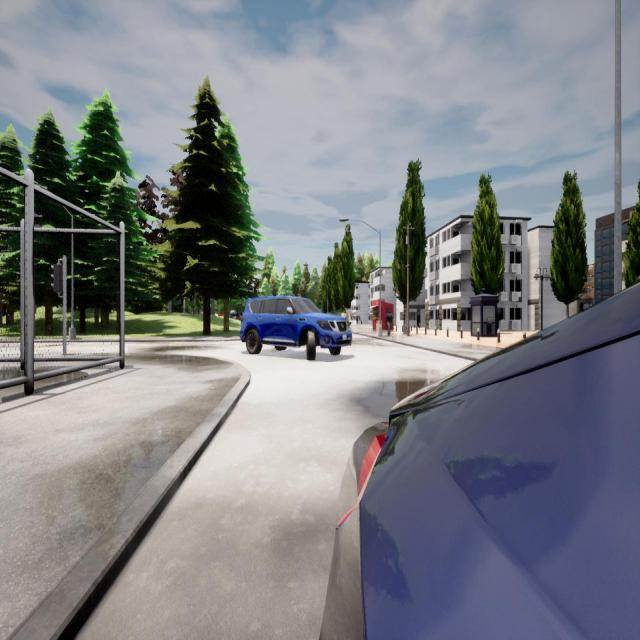Pedestrian: (384, 307, 394, 337)
Vehicle: (323, 287, 639, 640), (240, 296, 352, 356)
traffic_light: (53, 264, 63, 293)
